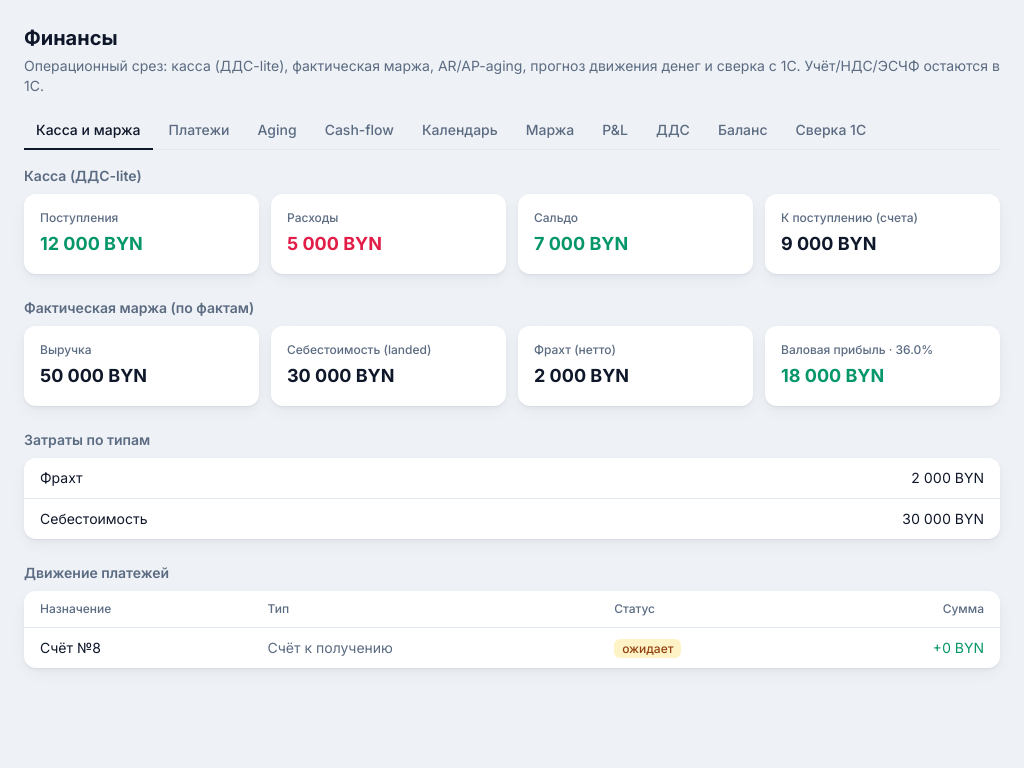
FinanceView › валидация: allocation с суммой 0 не постит на бэкенд и показывает ошибку
Expected: the heading "Касса (ДДС-lite)" is shown, [24,167,142,184]
Click the button "Платежи".
click(199, 131)  # box [156,112,242,150]
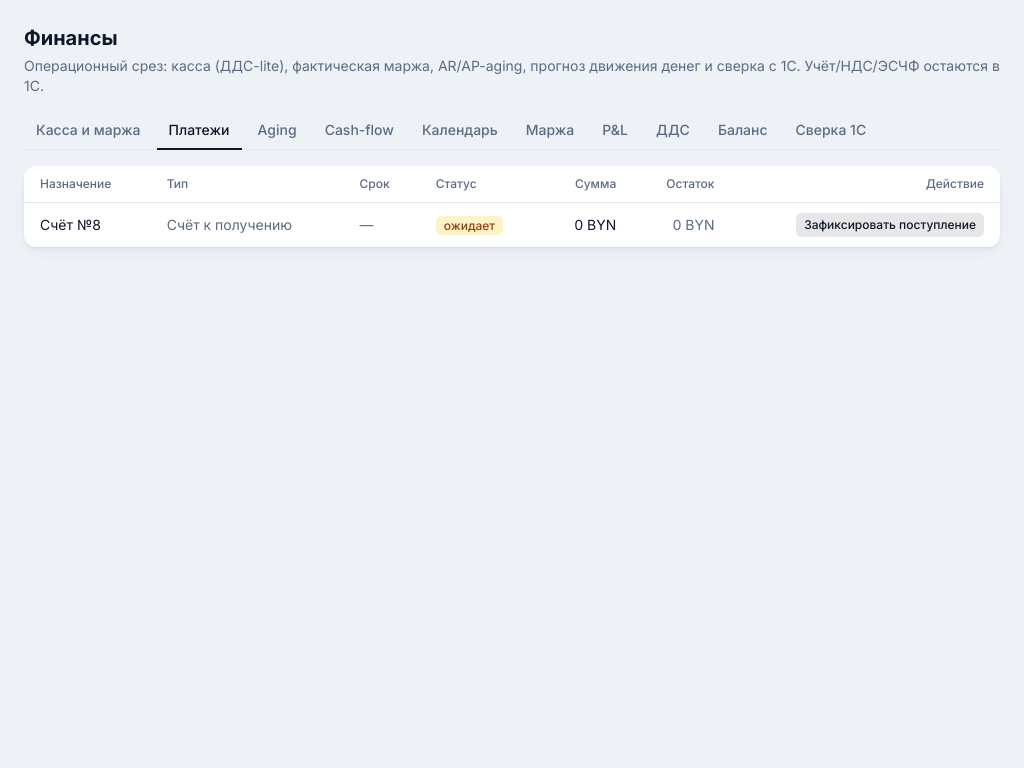
Expected: the text "Счёт №8" is shown, [24,202,151,247]
Click the button "Зафиксировать поступление".
click(890, 225)  # box [796,213,984,237]
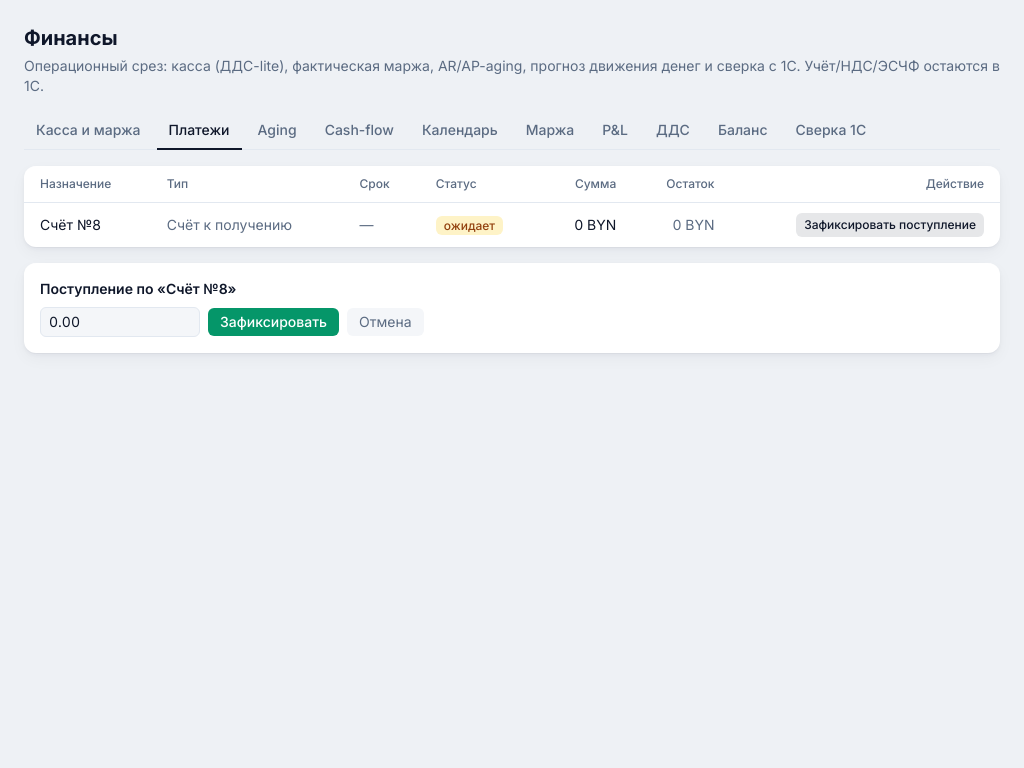
Click the button "Зафиксировать".
click(274, 322)  # box [208,308,339,336]
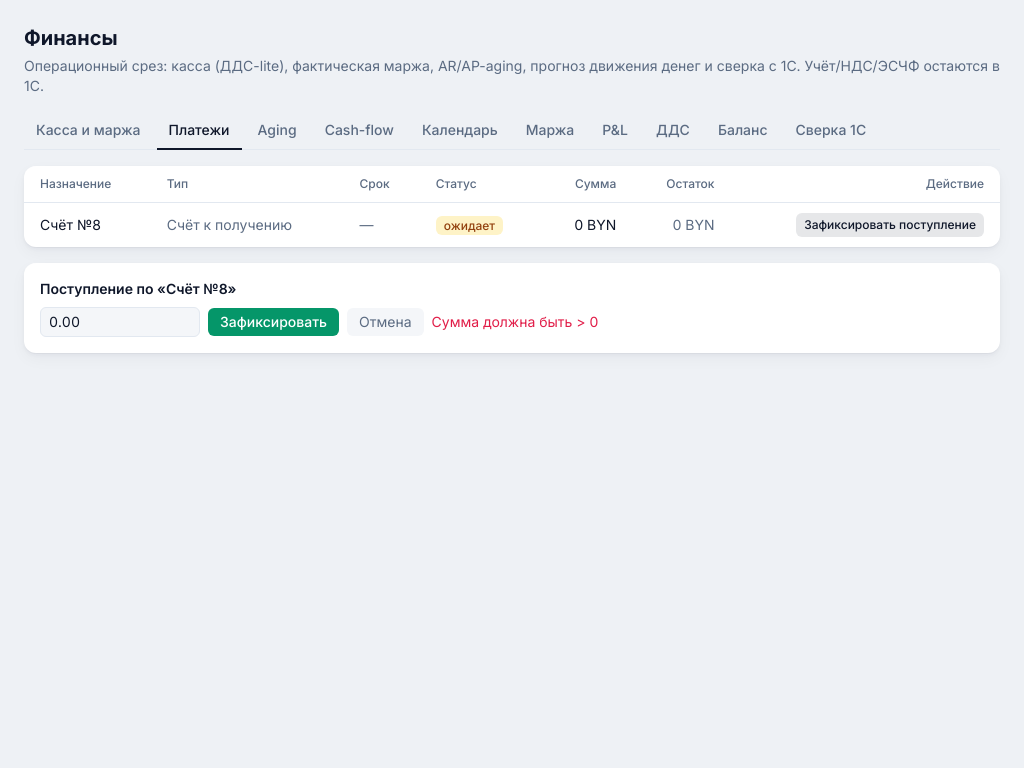
Expected: the text "Сумма должна быть > 0" is shown, [432,312,598,332]
